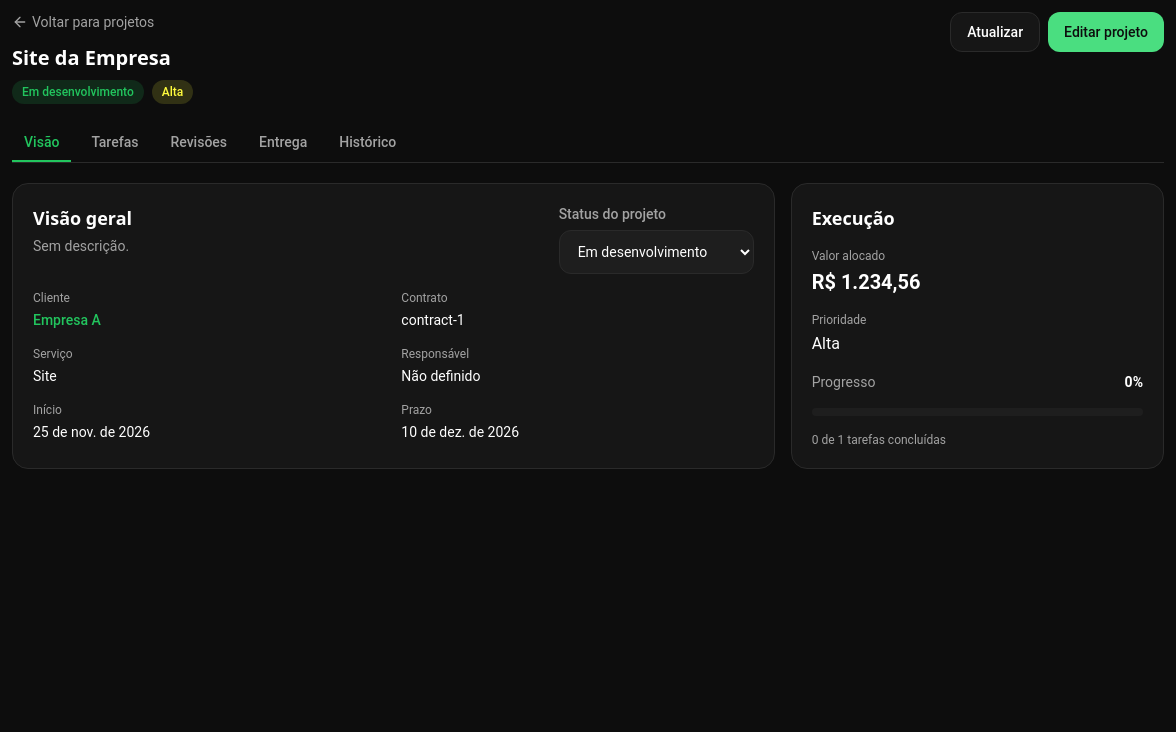
Test: ProjectDetailPage › preserva tarefa confirmada e métricas do detalhe quando os refreshes falham
Step 1. Click the tab "Tarefas" → x=115, y=143, box [79,124,150,162]
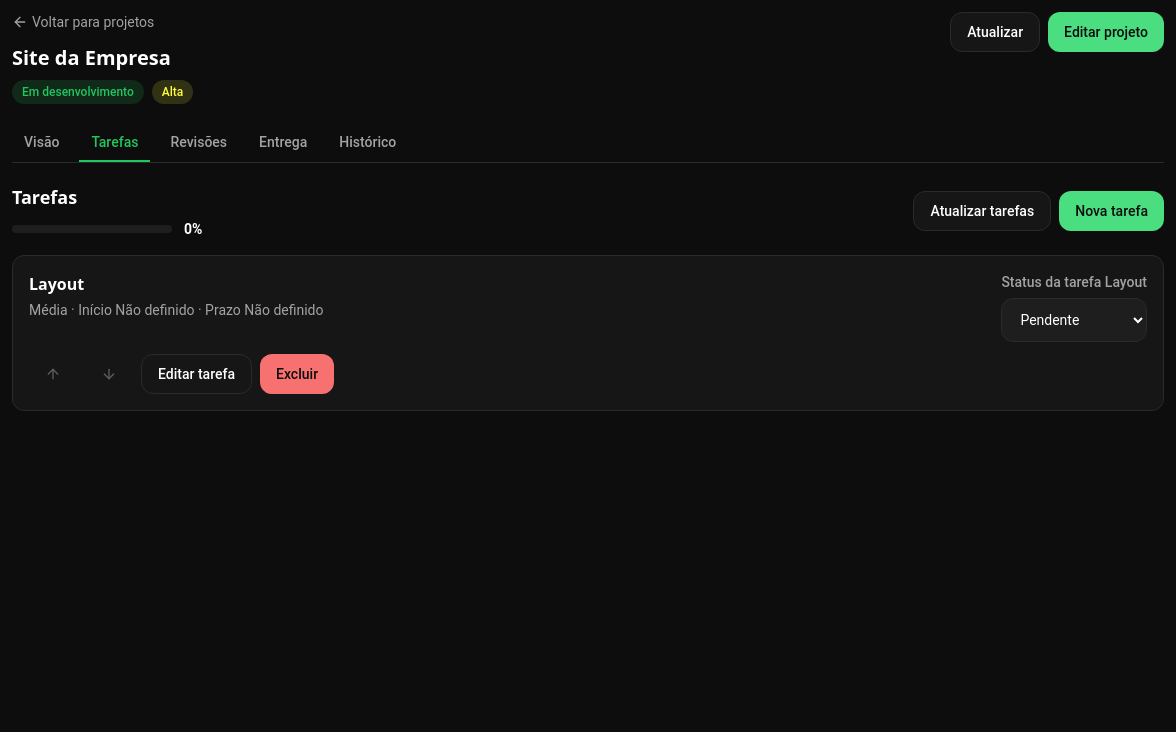
Step 2. Select "Concluída" in the dropdown labelled "Status da tarefa Layout" → x=1074, y=320, box [1001,298,1147,342]
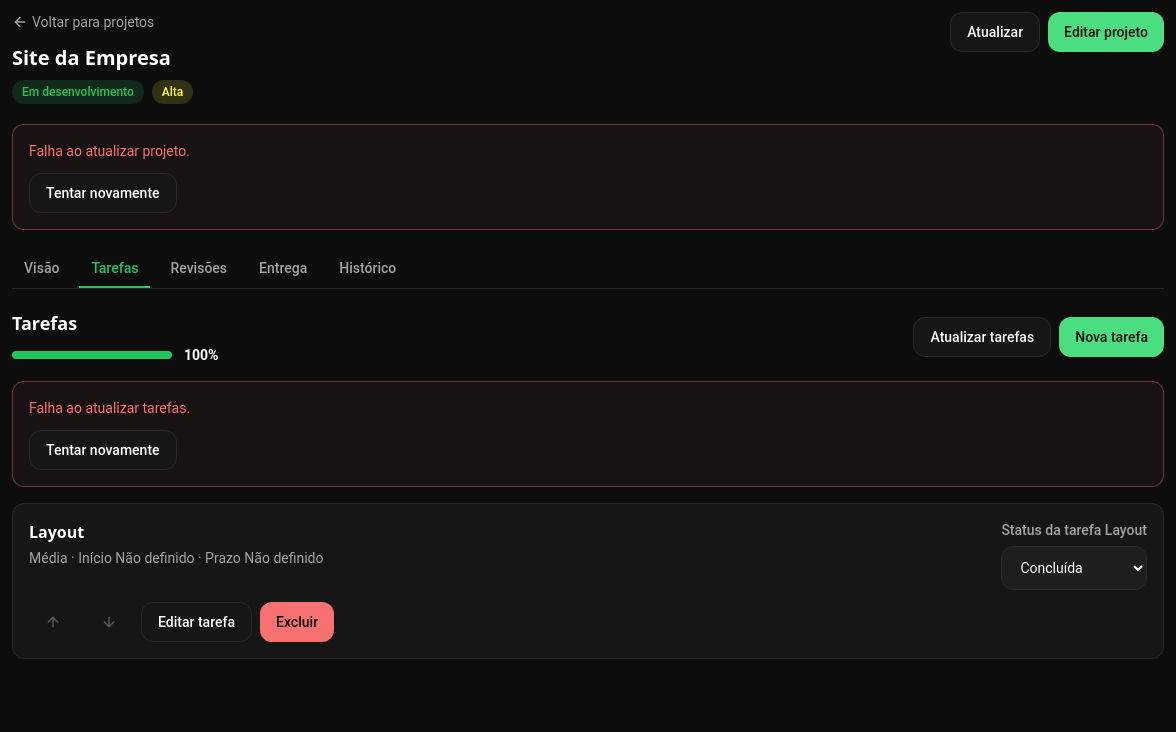
Check: the text "Falha ao atualizar tarefas." is shown, box [29,400,190,416]
Step 3. Click the tab "Visão" → x=42, y=269, box [12,250,71,288]
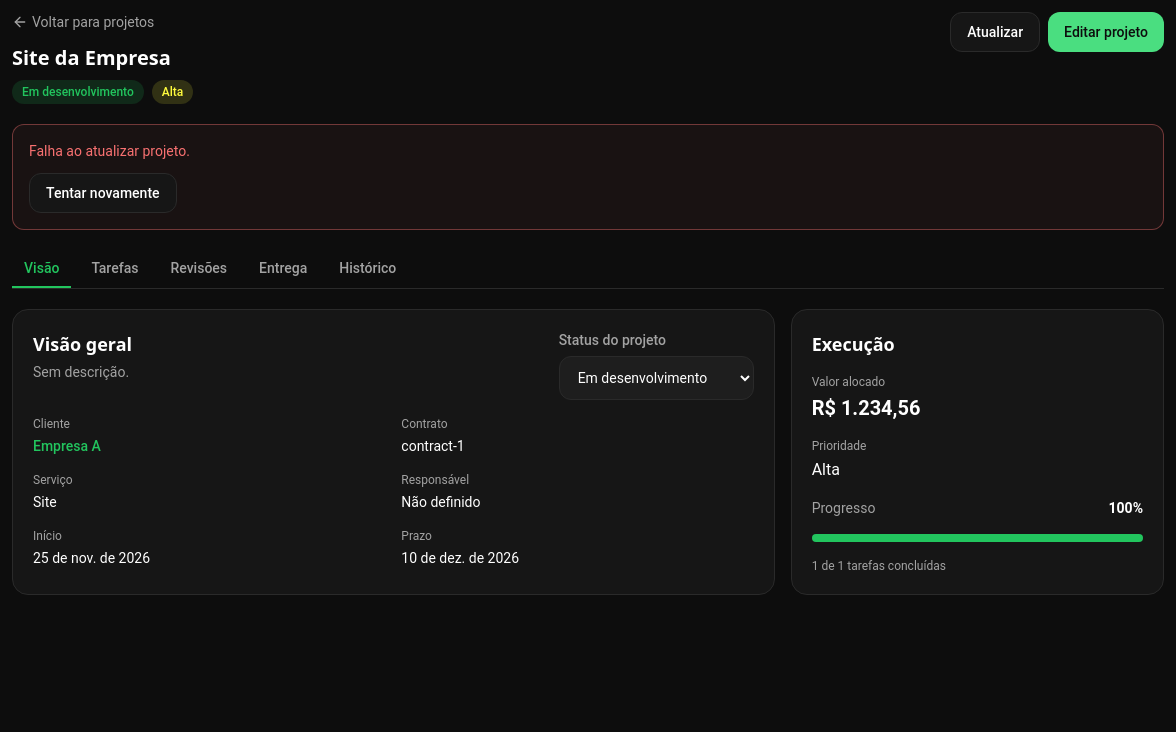
Check: the text "Falha ao atualizar projeto." is shown, box [29,143,190,159]
Check: the text "1 de 1 tarefas concluídas" is shown, box [812,559,946,573]
